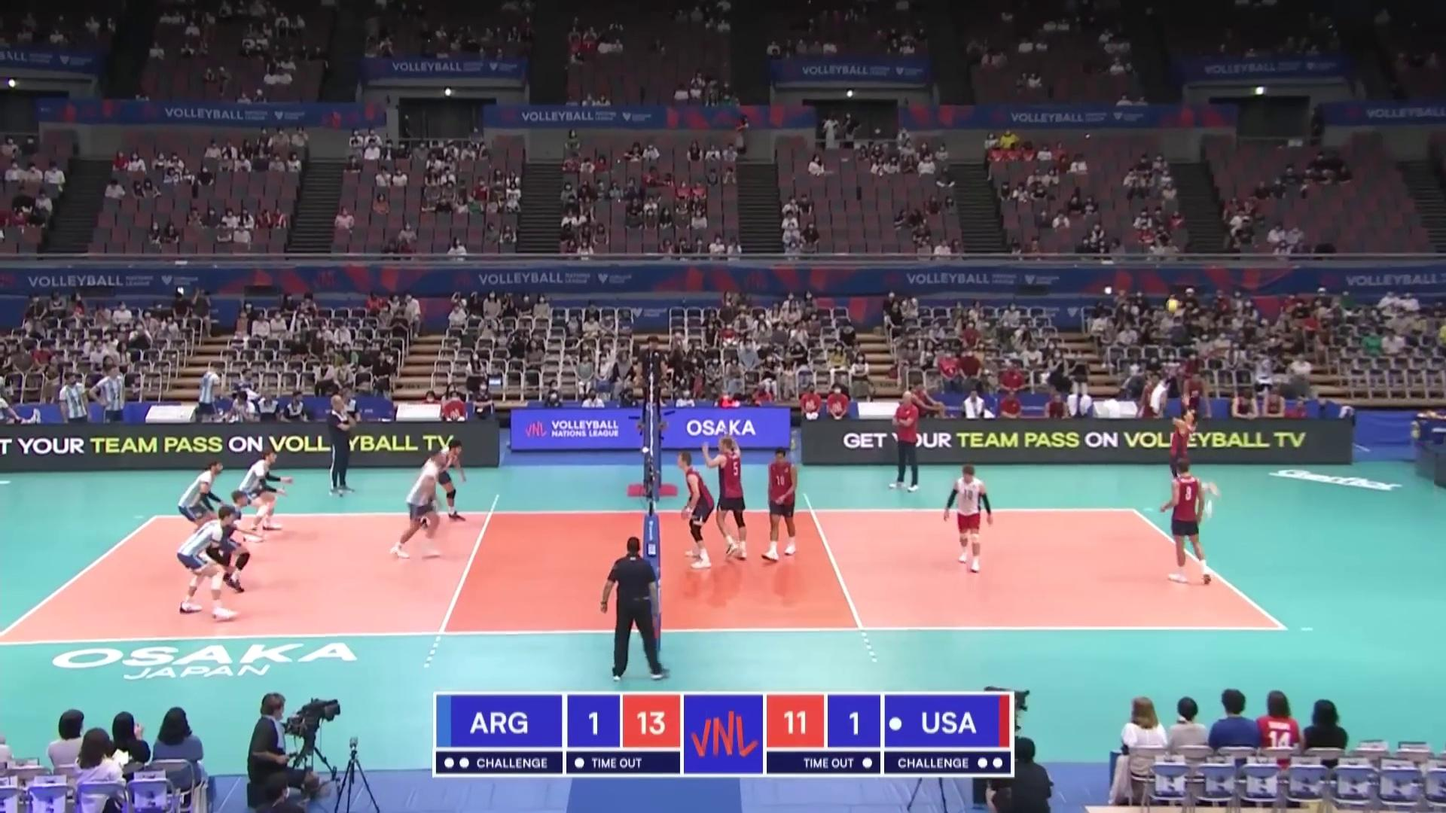player: (178, 504, 236, 621), (389, 450, 447, 561), (1162, 411, 1218, 519), (1165, 459, 1213, 584), (198, 491, 251, 591), (708, 434, 748, 562), (945, 465, 993, 571), (675, 450, 716, 570), (414, 438, 467, 526), (241, 452, 296, 536), (178, 459, 231, 546), (762, 448, 800, 563)
refree: (603, 537, 664, 678), (632, 332, 669, 433)
